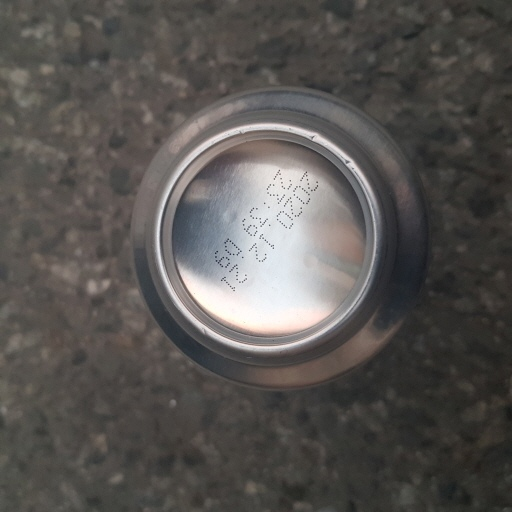Metal_0: (124, 86, 432, 384)
